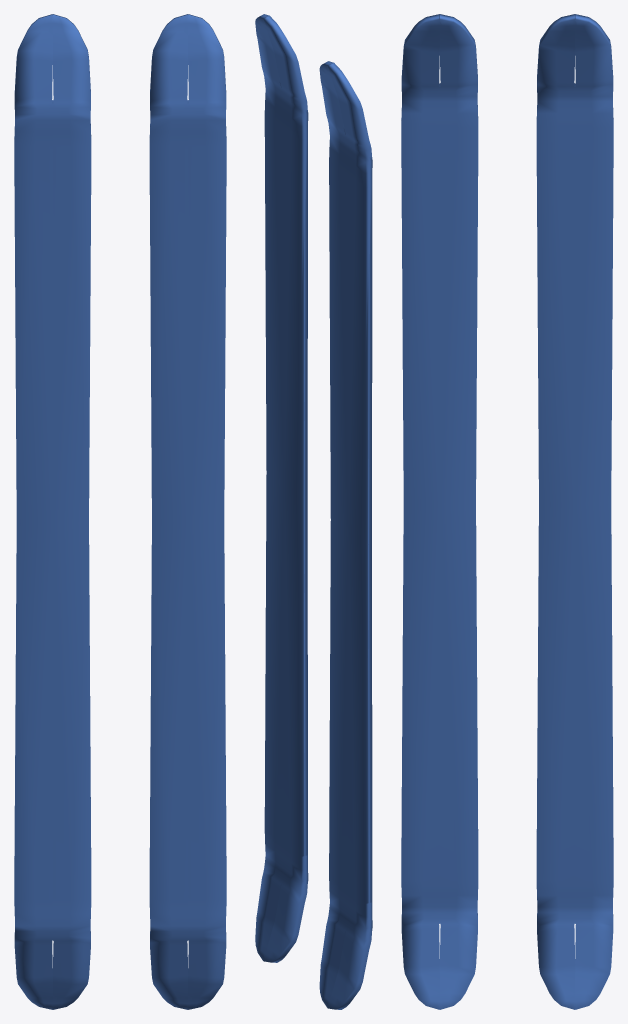
File: freestyle_ski.obj
The picture shows the model from 3 angles, left to right: view 1: azimuth 90°, elevation 25°; view 2: azimuth 210°, elevation 25°; view 3: azimuth 270°, elevation 25°; orthographic projection. The views are drawn at different scales.
Parts seen in each view (by area): view 1: Object_4, Object_6; view 2: Object_6, Object_4; view 3: Object_4, Object_6.
Boxes of the visible parts, left/top/right/bottom form: Object_4: left=149, top=14, right=226, bottom=1009; Object_6: left=14, top=14, right=91, bottom=1009; Object_6: left=319, top=61, right=372, bottom=1009; Object_4: left=255, top=14, right=308, bottom=962; Object_4: left=401, top=14, right=478, bottom=1009; Object_6: left=536, top=14, right=613, bottom=1009.
Size of the model in its own units: 0.1413 by 4.72 by 0.9146.
